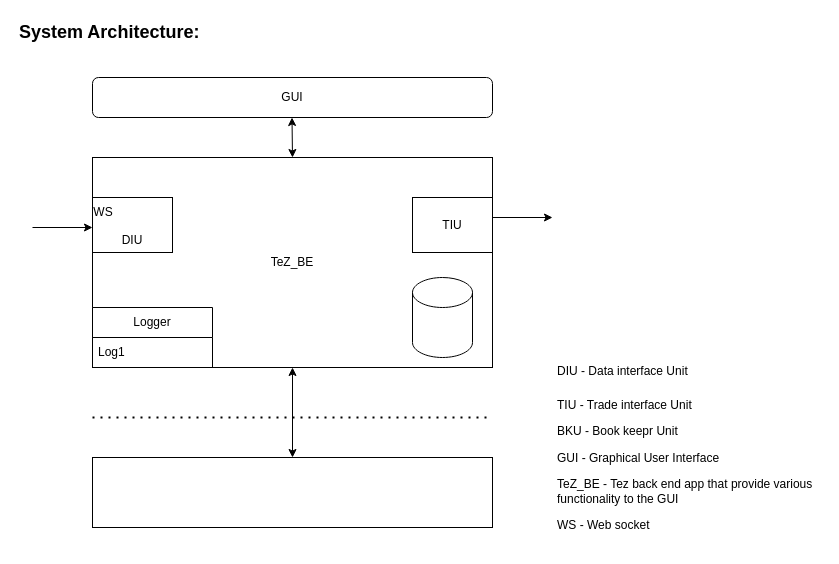
The diagram is 839 pixels wide and 564 high, and some of its shapes have lost their labels. Each missing label, with the centre of its shape:
BKU: [442,317]
Finvasia Python APIs: [292,492]
